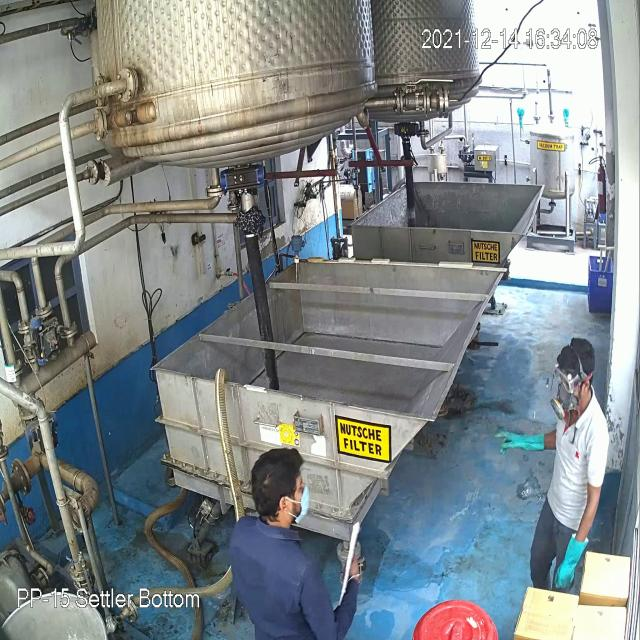glasses: (548, 357, 586, 395)
gloves: (553, 527, 589, 592), (492, 422, 550, 458)
